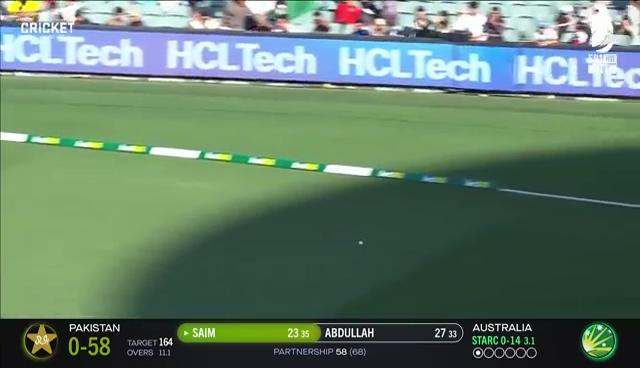ball: (350, 219, 371, 251)
